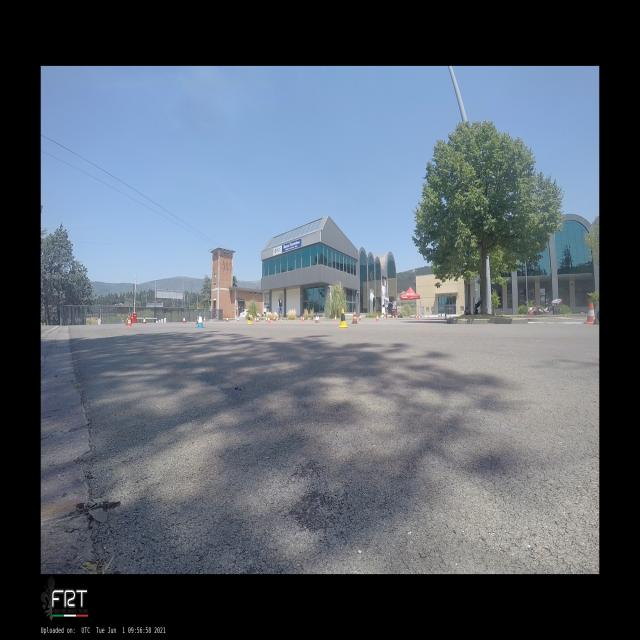blue_cone: (196, 312, 206, 328)
large_orange_cone: (351, 310, 359, 323)
orange_cone: (584, 302, 595, 324), (126, 316, 133, 327), (314, 315, 319, 323), (266, 315, 271, 323), (376, 313, 380, 322), (333, 314, 337, 322), (254, 316, 257, 323)
unknown_cone: (593, 308, 599, 324)
yellow_cone: (339, 309, 348, 327), (247, 314, 252, 324)
